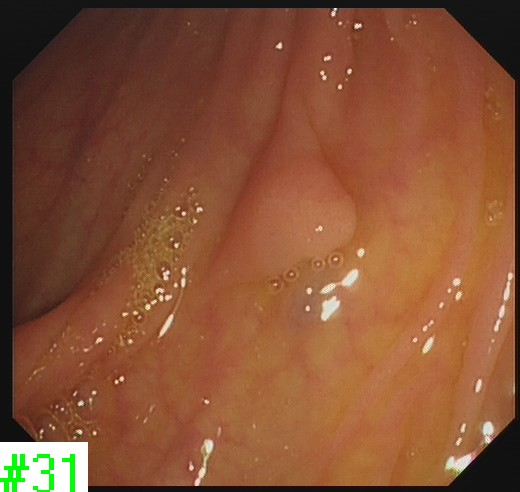adenoma: (219, 148, 364, 278)
